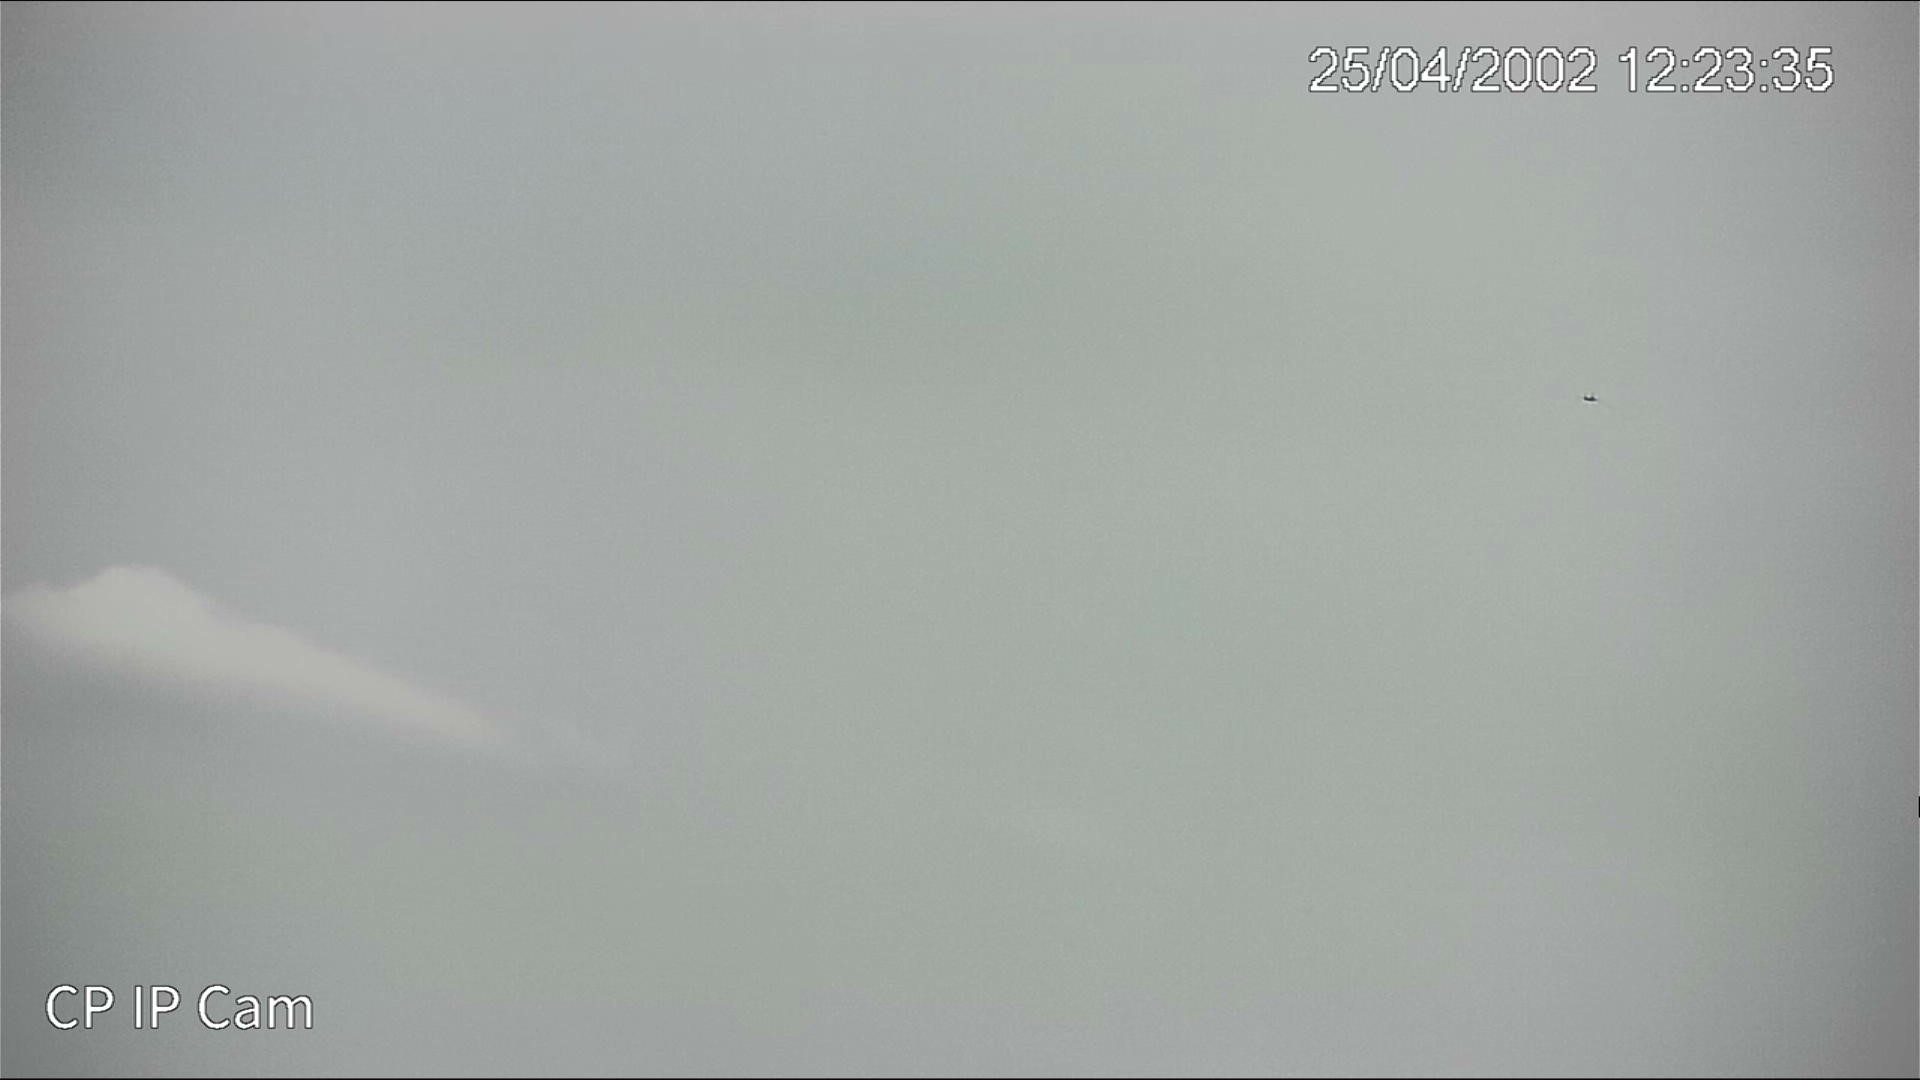SU_30: (1582, 393, 1597, 404)
